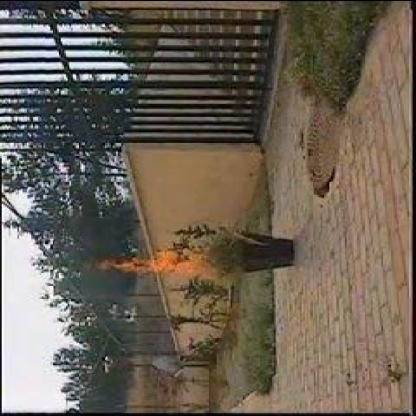foggia-v2-map80-epoch100 - v1 4323: (96, 247, 198, 274)
